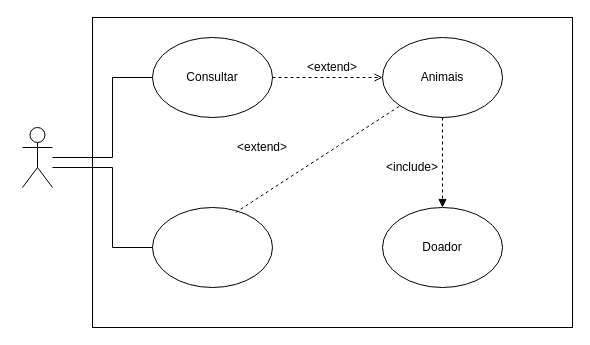
This 590x345 diagram has some shape labels left out. Here are the shapes that lost their labels. From the top down, the centre of each, then its label:
At [37,157]: "Usuário".
At [212,247]: "Cadastar".
